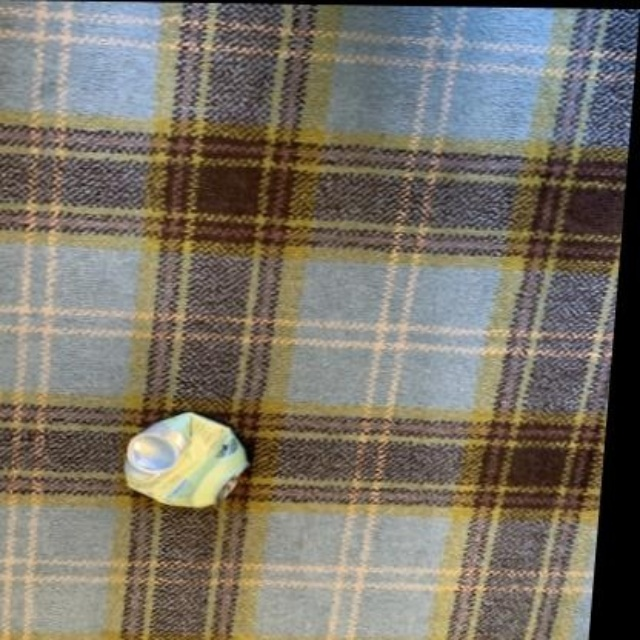trash: (125, 412, 248, 506)
